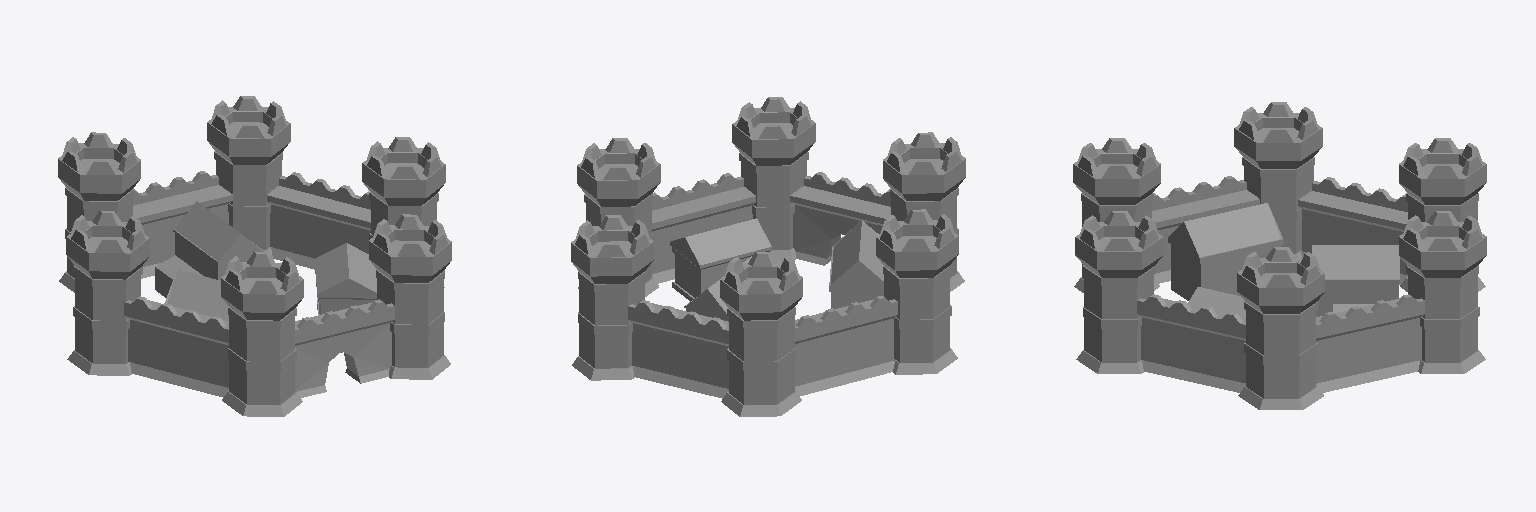
Rendered from City.obj.
3 views of the same model, side by side, from view 1: azimuth 30°, elevation 25°; view 2: azimuth 150°, elevation 25°; view 3: azimuth 270°, elevation 25° (orthographic).
Parts seen in each view (by area): view 1: Cube; view 2: Cube; view 3: Cube.
Boxes of the visible parts, x1=… form: Cube: x1=58, y1=96, x2=451, y2=416; Cube: x1=571, y1=97, x2=965, y2=416; Cube: x1=1073, y1=102, x2=1486, y2=409.
Size of the model in its own units: 1 by 0.3591 by 1.